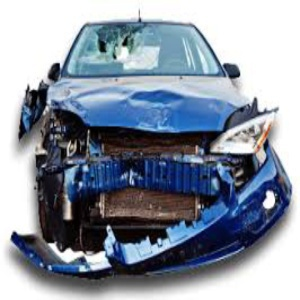bonnet: (54, 75, 228, 132)
bumper: (34, 171, 278, 279)
front_windshield_glass: (81, 25, 205, 73)
